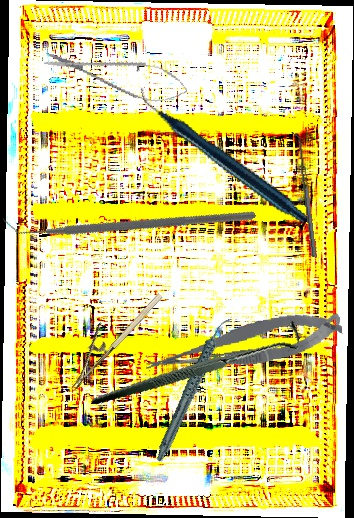Chopper: (2, 97, 257, 338)
Handpiece: (139, 52, 309, 257), (129, 315, 257, 463)
Hook Surgical: (91, 286, 303, 441)
Micro Scissor: (141, 307, 346, 379), (40, 39, 192, 110)
Needle Holder: (52, 278, 166, 392)
Spatula Surgical: (291, 130, 317, 259)
